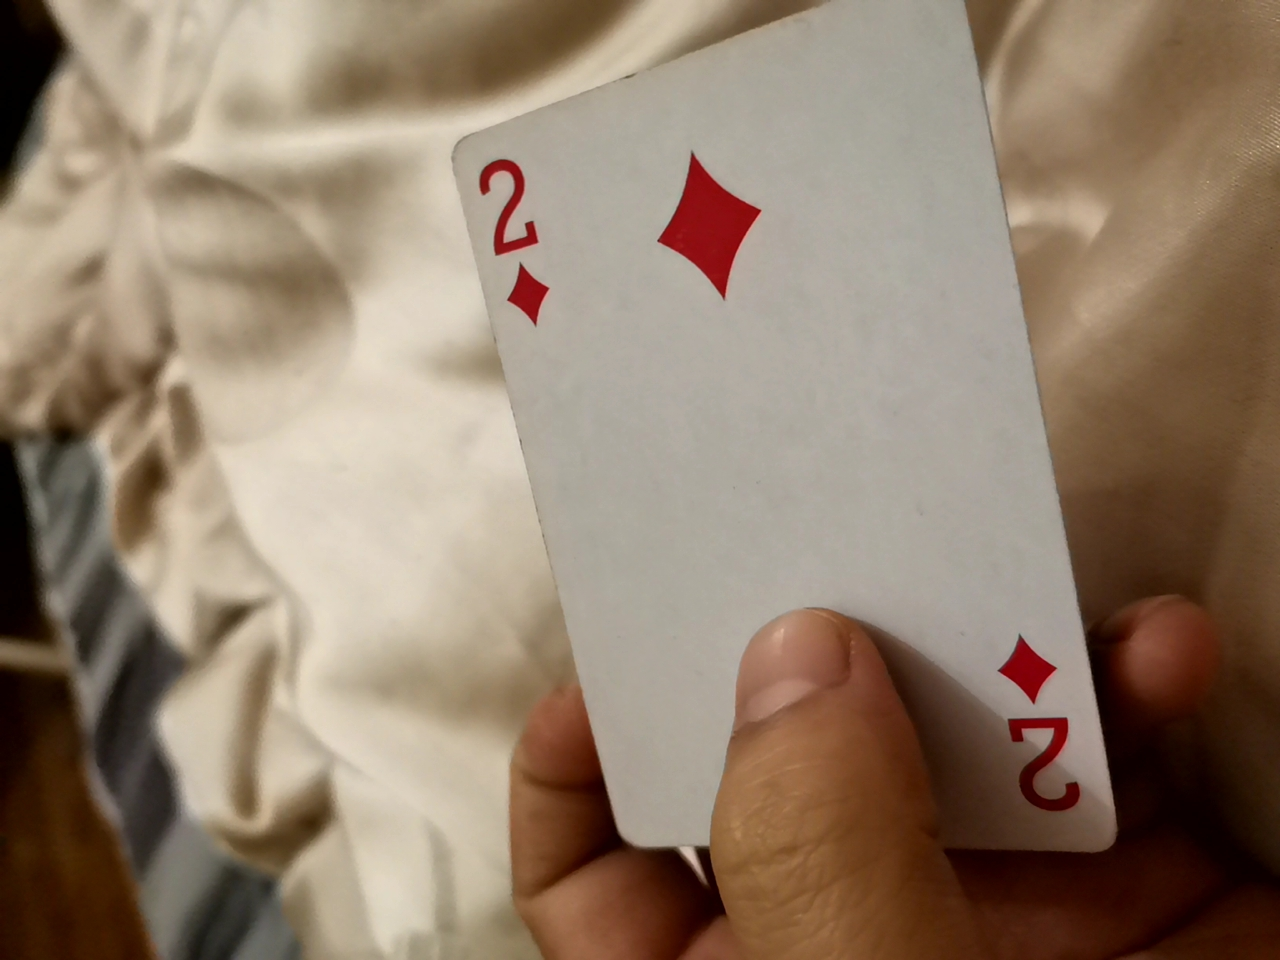fk 2: (391, 13, 1143, 876)
